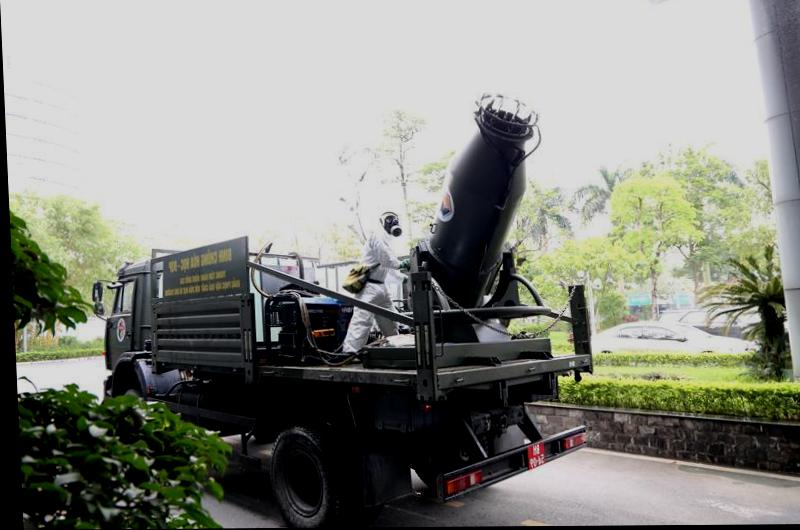License_Plate: (524, 441, 549, 472)
